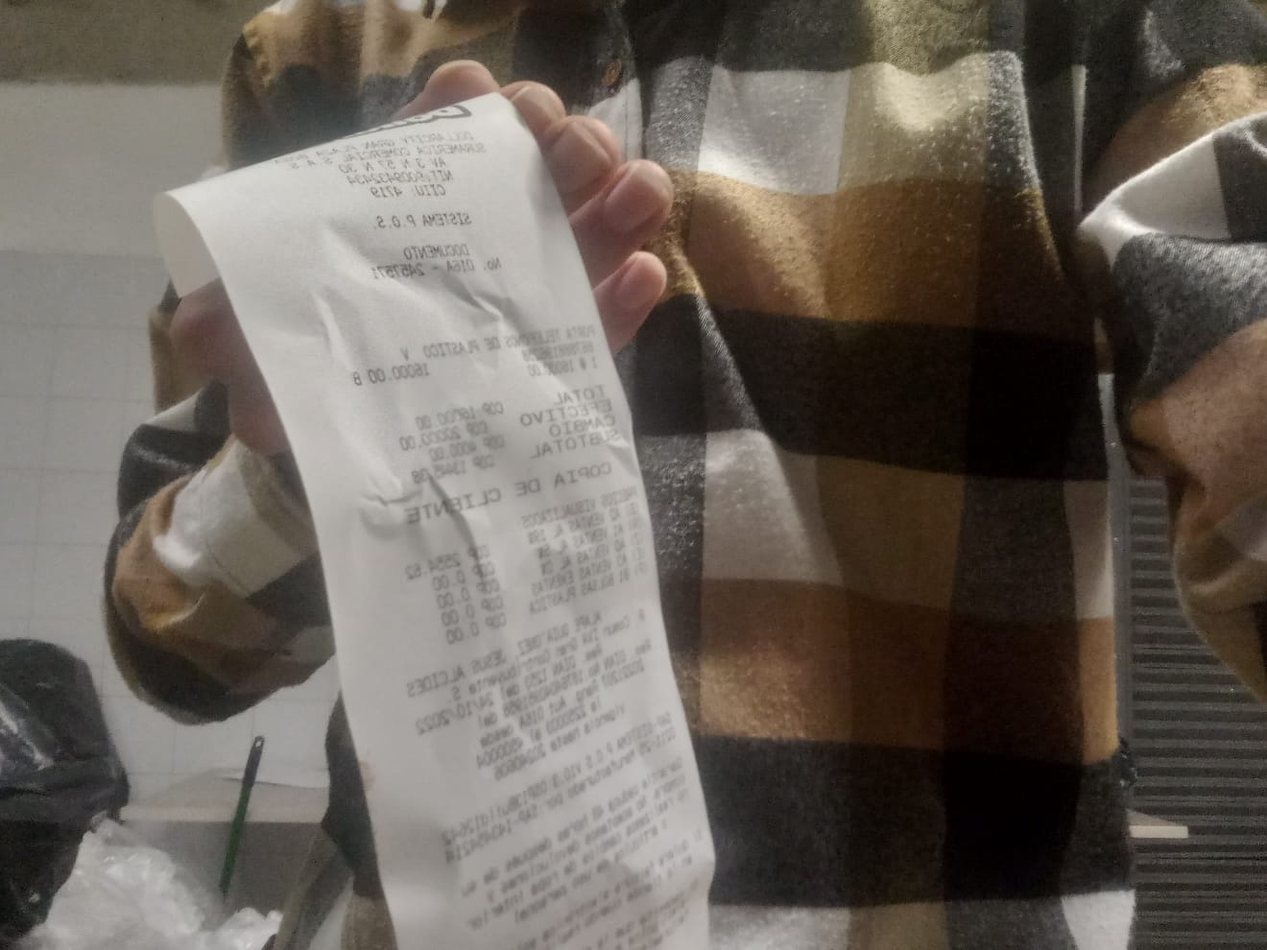Papel: (156, 91, 716, 950)
